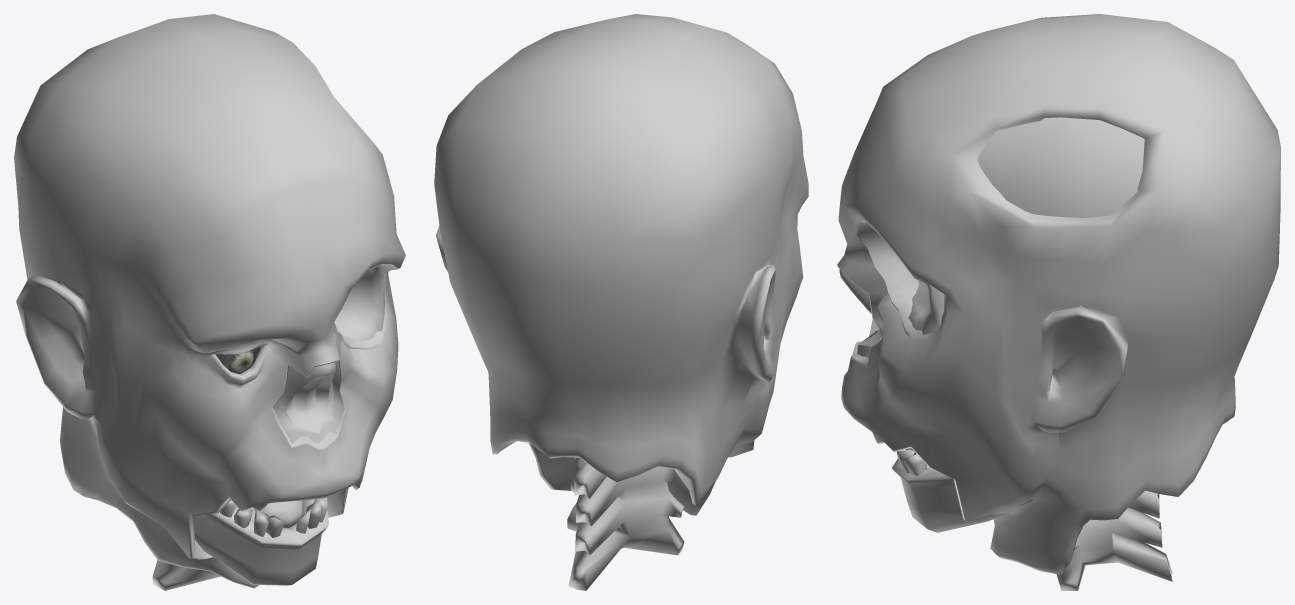
Rendered from Head_04.fbx.
The picture shows the model from 3 angles, left to right: view 1: azimuth 30°, elevation 25°; view 2: azimuth 150°, elevation 25°; view 3: azimuth 270°, elevation 25°; orthographic projection. The views are drawn at different scales.
Parts seen in each view (by area): view 1: Head_04; view 2: Head_04; view 3: Head_04.
Boxes of the visible parts, box(x1,y1,x2,y2) form: Head_04: box(14, 14, 405, 590); Head_04: box(434, 14, 808, 590); Head_04: box(837, 14, 1280, 590).
Bounding box in the file's own units: 17.79 × 27.16 × 19.98.
